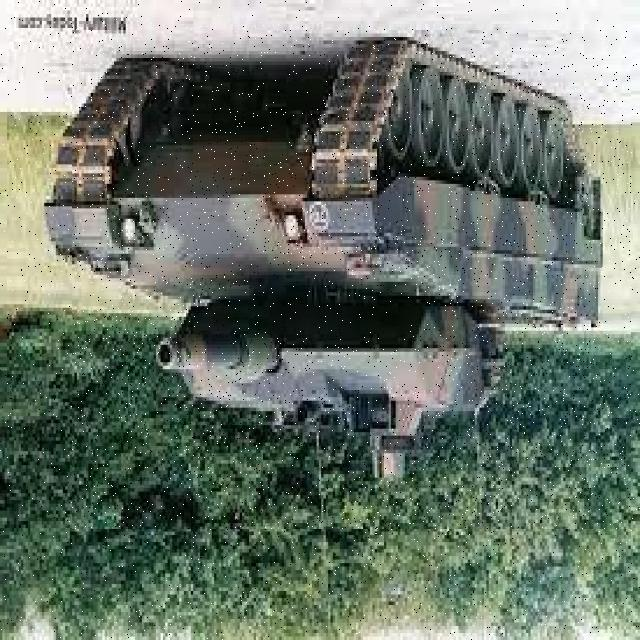MIL_MBT: (72, 26, 630, 529)
